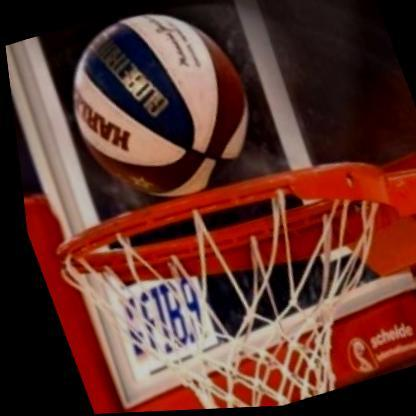basketball: (38, 0, 282, 226)
